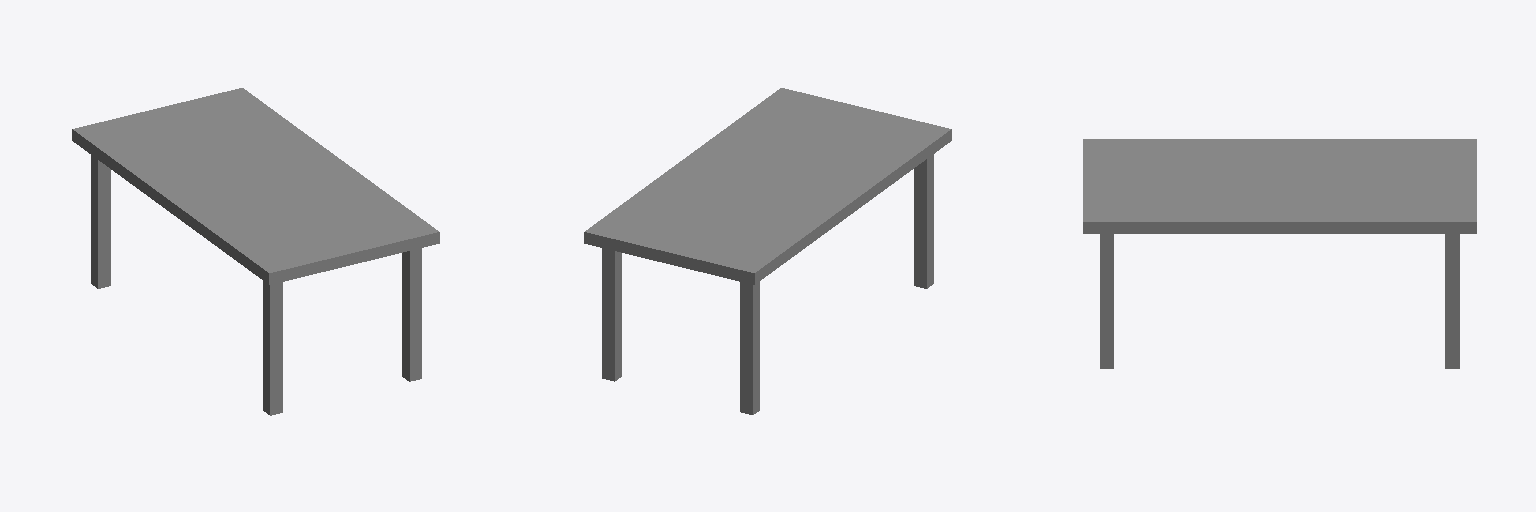
Rendered from simple-table-obj.obj.
3 renders of one model, left to right at view 1: azimuth 30°, elevation 25°; view 2: azimuth 150°, elevation 25°; view 3: azimuth 270°, elevation 25°, orthographic.
Visible parts, largest first — view 1: Cube_Cube.001, Cube__Copy___Copy___Copy_, Cube__Copy___Copy_; view 2: Cube_Cube.001, Cube__Copy_, Cube__Copy___Copy___Copy_; view 3: Cube_Cube.001, Cube__Copy_, Cube__Copy___Copy_.
Part boxes in pixels (left/top/right/bottom): Cube_Cube.001: left=72, top=88, right=439, bottom=288; Cube__Copy___Copy___Copy_: left=263, top=281, right=282, bottom=415; Cube__Copy___Copy_: left=402, top=248, right=421, bottom=381; Cube_Cube.001: left=584, top=88, right=951, bottom=414; Cube__Copy_: left=602, top=248, right=621, bottom=381; Cube__Copy___Copy___Copy_: left=914, top=154, right=933, bottom=288; Cube_Cube.001: left=1083, top=139, right=1476, bottom=233; Cube__Copy_: left=1445, top=234, right=1459, bottom=368; Cube__Copy___Copy_: left=1100, top=234, right=1113, bottom=368.
Bounding box in the file's own units: 0.1 × 0.0847 × 0.2005.